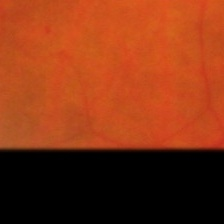MA: (44, 26, 51, 34)
